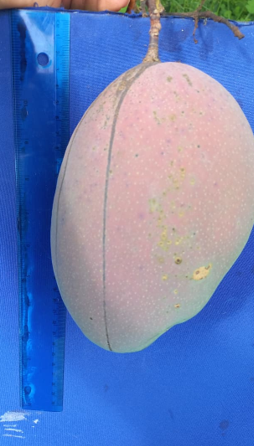Mango-Antracnosis: (51, 62, 253, 352)
Mango-area-afectada: (69, 66, 145, 350)
Mango-sano: (52, 63, 253, 352)
